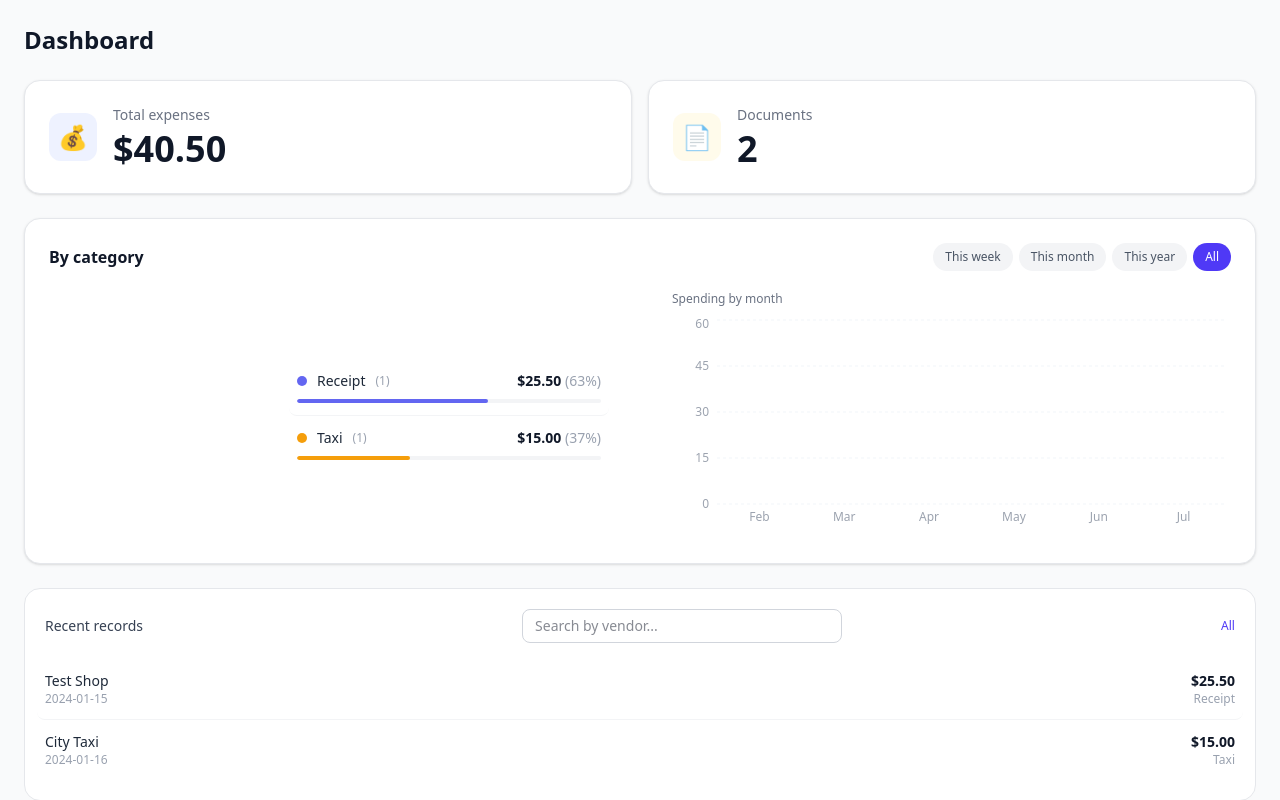
DashboardPage › filters recent expenses by clicking a category
Expected: the text "Test Shop" is shown, [45, 671, 108, 691]
Click the button "Taxi (1) $15.00 (37%)": (539, 437) [289, 416, 609, 472]
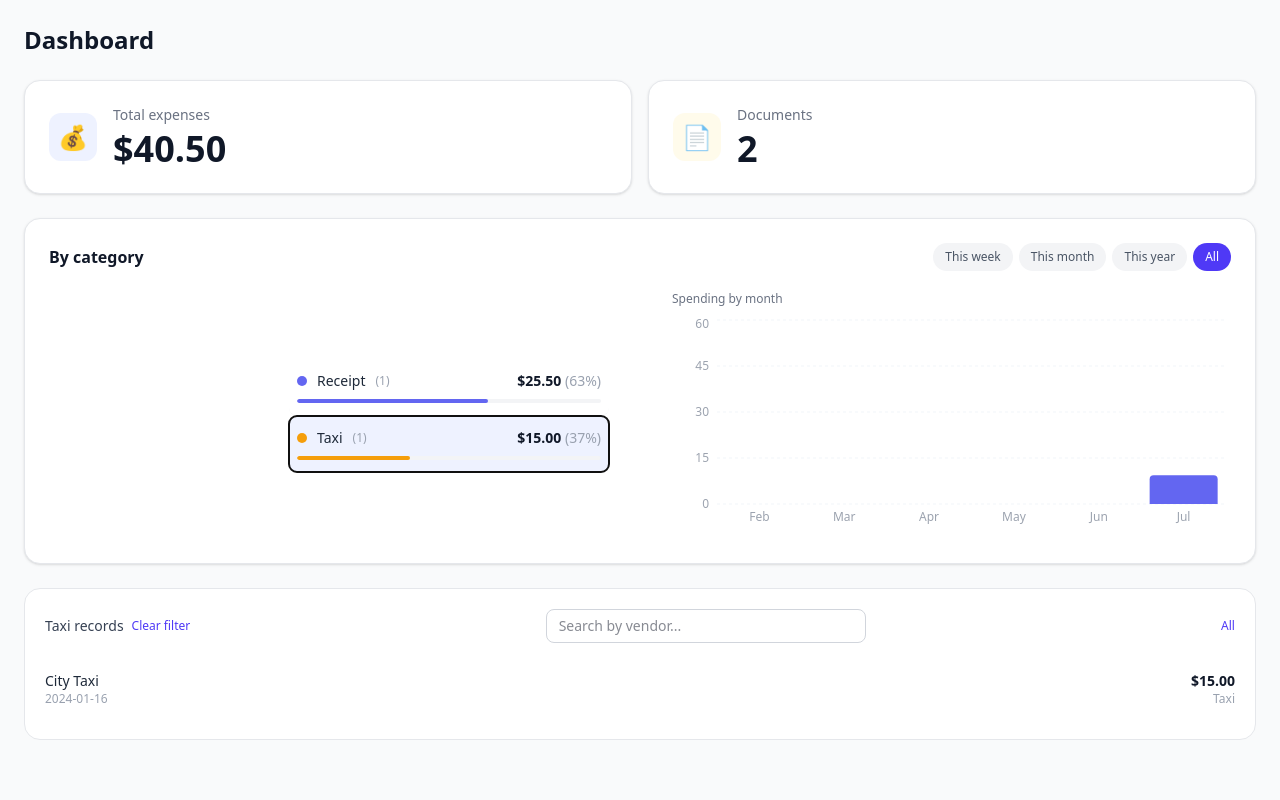
Expected: the text "City Taxi" is shown, [45, 671, 108, 691]
Now the link "Test Shop" is gone
Now the button "Clear filter" is shown
Click the button "Clear filter": (161, 626) [132, 618, 190, 634]
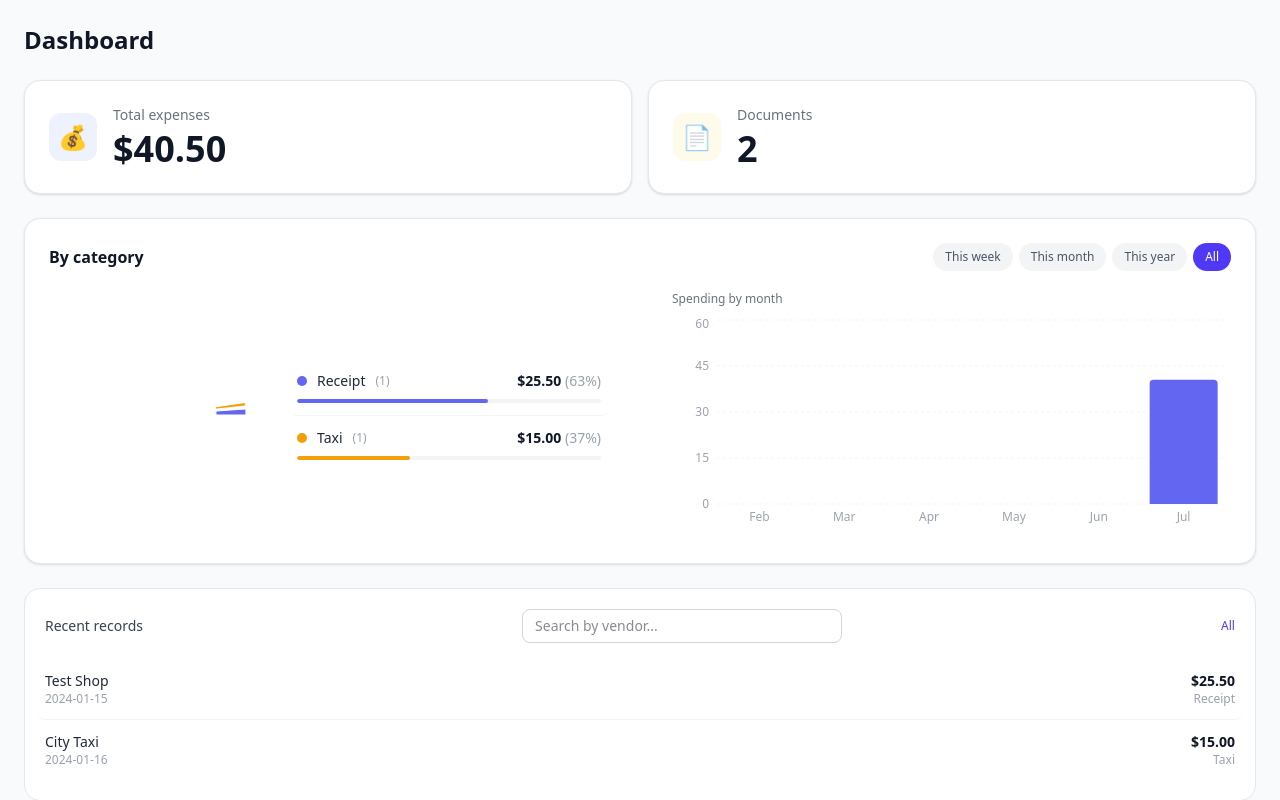
Now the text "Test Shop" is shown, box [45, 671, 108, 691]
